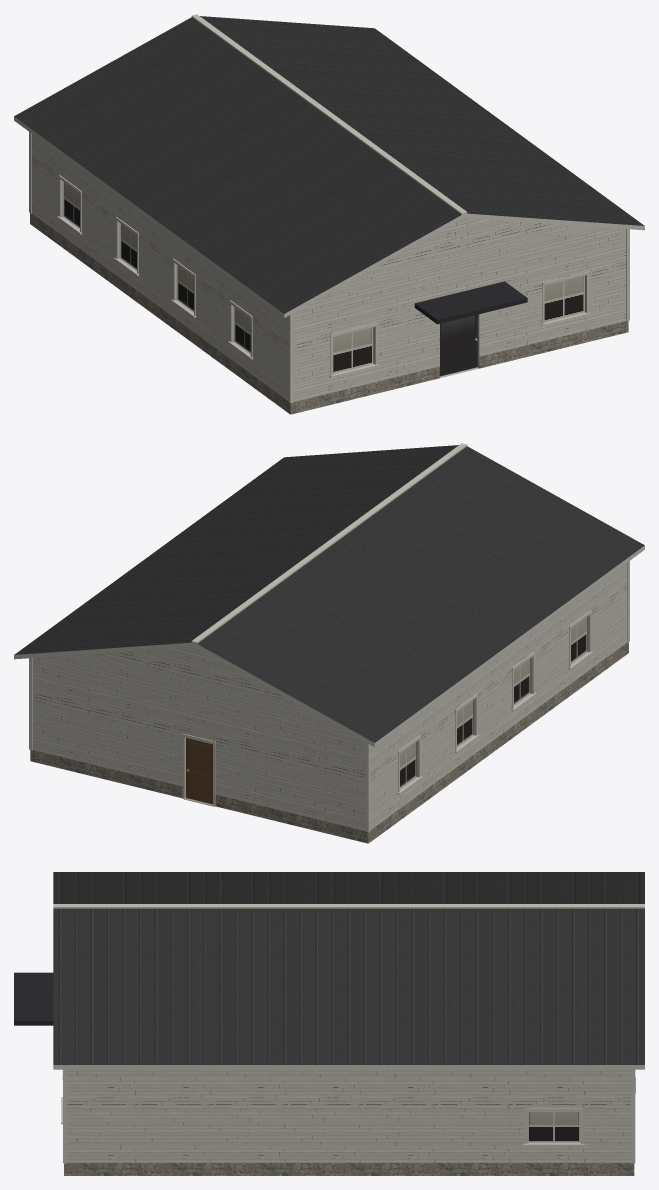
File: town_church_hall.gltf
3 renders of one model, top to bottom at view 1: azimuth 30°, elevation 25°; view 2: azimuth 150°, elevation 25°; view 3: azimuth 270°, elevation 25°, orthographic. The views are drawn at different scales.
Parts seen in each view (by area): view 1: TownChurchHall_Roof, TownChurchHall_Walls, TownChurchHall_Base, TownChurchHall_Window, TownChurchHall_Trim, TownChurchHall_Fascia, TownChurchHall_Canopy, TownChurchHall_Ridge, TownChurchHall_Door_1_Glass, TownChurchHall_Reveals; view 2: TownChurchHall_Roof, TownChurchHall_Walls, TownChurchHall_Base, TownChurchHall_Trim, TownChurchHall_Fascia, TownChurchHall_Window, TownChurchHall_Ridge, TownChurchHall_ClosedDoor, TownChurchHall_Reveals; view 3: TownChurchHall_Roof, TownChurchHall_Walls, TownChurchHall_Base, TownChurchHall_Fascia, TownChurchHall_Ridge, TownChurchHall_Canopy, TownChurchHall_Trim, TownChurchHall_Window.
Boxes of the visible parts, box(x1,y1,x2,y2) form: TownChurchHall_Roof: box(14, 16, 644, 313); TownChurchHall_Walls: box(31, 134, 625, 401); TownChurchHall_Base: box(30, 213, 628, 414); TownChurchHall_Window: box(64, 182, 584, 372); TownChurchHall_Trim: box(29, 132, 629, 403); TownChurchHall_Fascia: box(14, 116, 644, 318); TownChurchHall_Canopy: box(414, 281, 527, 324); TownChurchHall_Ridge: box(191, 14, 467, 214); TownChurchHall_Door_1_Glass: box(441, 315, 474, 368); TownChurchHall_Reveals: box(61, 180, 586, 377); TownChurchHall_Roof: box(14, 445, 644, 742); TownChurchHall_Walls: box(33, 563, 627, 830); TownChurchHall_Base: box(30, 642, 628, 843); TownChurchHall_Trim: box(29, 561, 629, 832); TownChurchHall_Fascia: box(14, 545, 644, 747); TownChurchHall_Window: box(400, 617, 586, 787); TownChurchHall_Ridge: box(191, 443, 467, 643); TownChurchHall_ClosedDoor: box(186, 738, 212, 804); TownChurchHall_Reveals: box(185, 615, 589, 797); TownChurchHall_Roof: box(53, 872, 644, 1064); TownChurchHall_Walls: box(67, 1069, 630, 1162); TownChurchHall_Base: box(64, 1163, 634, 1175); TownChurchHall_Fascia: box(53, 1065, 644, 1069); TownChurchHall_Ridge: box(53, 904, 644, 908); TownChurchHall_Canopy: box(14, 972, 53, 1025); TownChurchHall_Trim: box(61, 1069, 635, 1163); TownChurchHall_Window: box(527, 1112, 580, 1142).
Size of what is drawn, in the model's own units: 12.8 by 5.57 by 17.7.
Materials: 2 (2 with a texture image).
